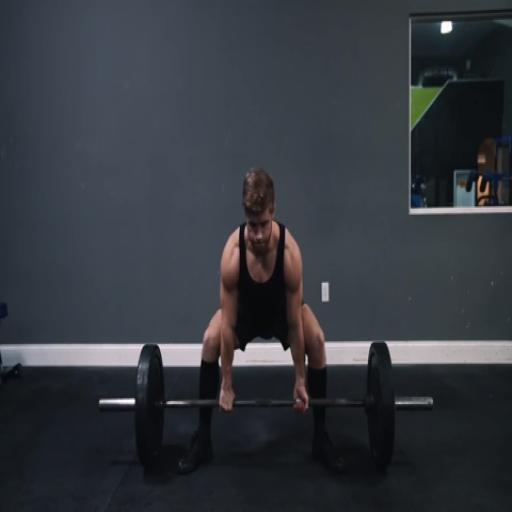exercise: (175, 165, 349, 478)
